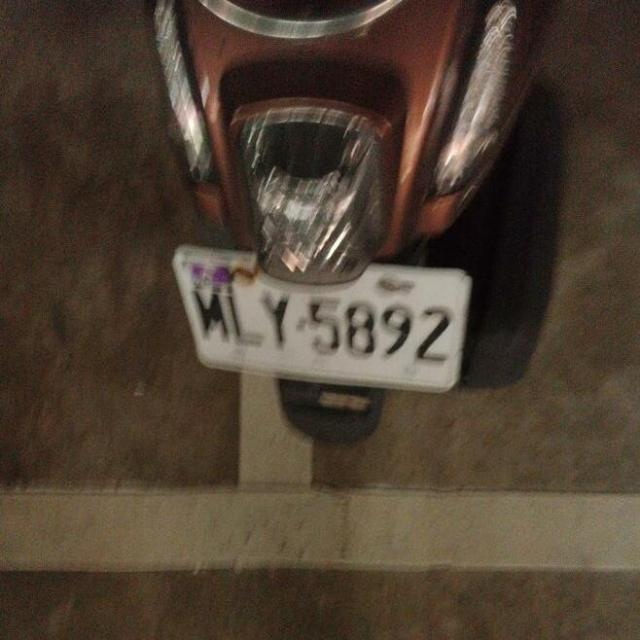W: (162, 228, 482, 408)
